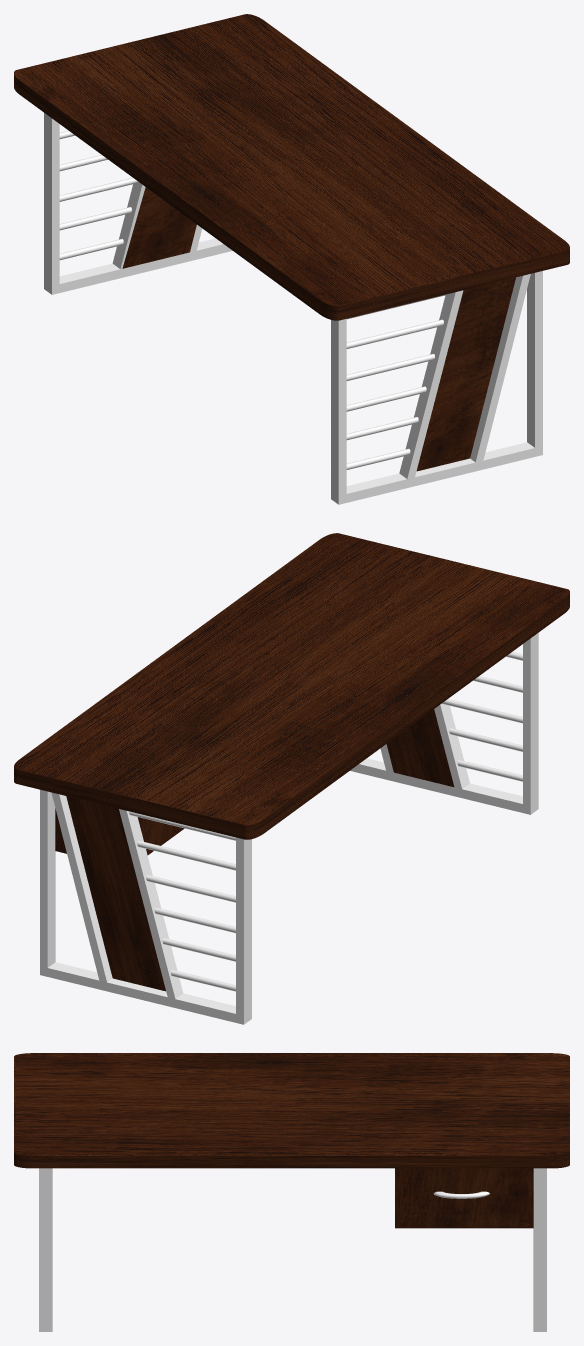
The picture shows the model from 3 angles, top to bottom: view 1: azimuth 30°, elevation 25°; view 2: azimuth 150°, elevation 25°; view 3: azimuth 270°, elevation 25°; orthographic projection. The views are drawn at different scales.
Visible parts, largest first — view 1: Cube, Cylinder.001, Cube.001, Cylinder.003, Cube.002; view 2: Cube, Cylinder.003, Cube.002, Cylinder.001, Cube.001, Cylinder.002; view 3: Cube, Cylinder.002, Cylinder.003, Cylinder.001.
Part boxes in pixels (x1,y1,x2,y2): Cube: [14, 14, 569, 320]; Cylinder.001: [331, 271, 542, 504]; Cube.001: [416, 277, 515, 471]; Cylinder.003: [44, 113, 232, 294]; Cube.002: [122, 187, 196, 268]; Cube: [14, 533, 569, 839]; Cylinder.003: [40, 789, 251, 1024]; Cube.002: [66, 796, 165, 991]; Cylinder.001: [350, 633, 538, 814]; Cube.001: [386, 709, 454, 786]; Cylinder.002: [55, 808, 184, 855]; Cube: [14, 1053, 569, 1168]; Cylinder.002: [395, 1168, 533, 1228]; Cylinder.003: [533, 1168, 546, 1331]; Cylinder.001: [39, 1168, 52, 1331].
Bounding box in the file's own units: 1.54 × 1.28 × 3.53.
3 materials, 1 textured.
